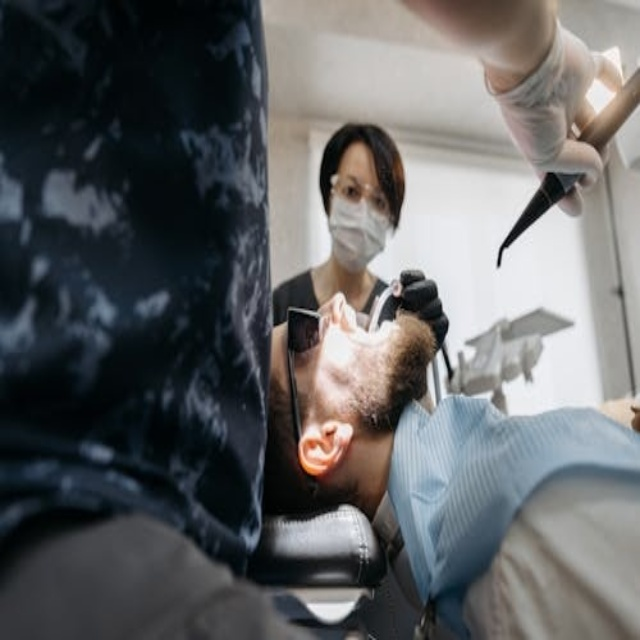Gafas: (286, 305, 329, 455), (330, 173, 395, 223)
Guantes: (481, 17, 611, 189), (376, 268, 449, 362)
Mascara: (326, 182, 392, 271)
Sin_mascara: (340, 295, 425, 402)
